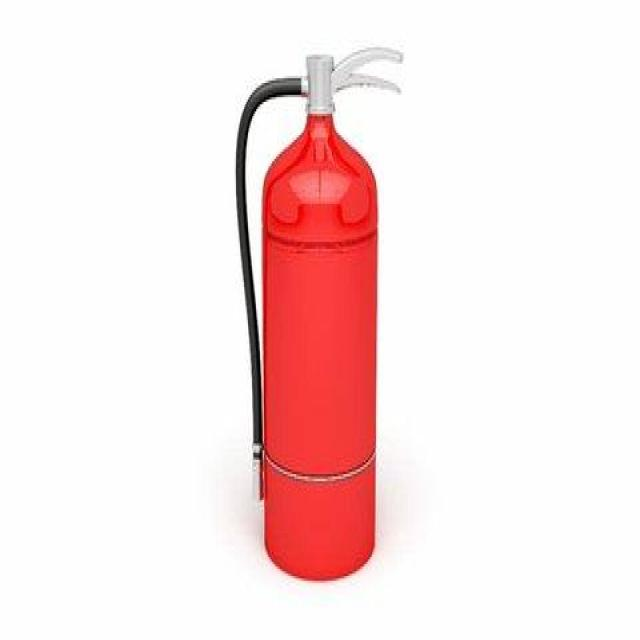Fire-Extinguisher: (235, 48, 408, 580)
